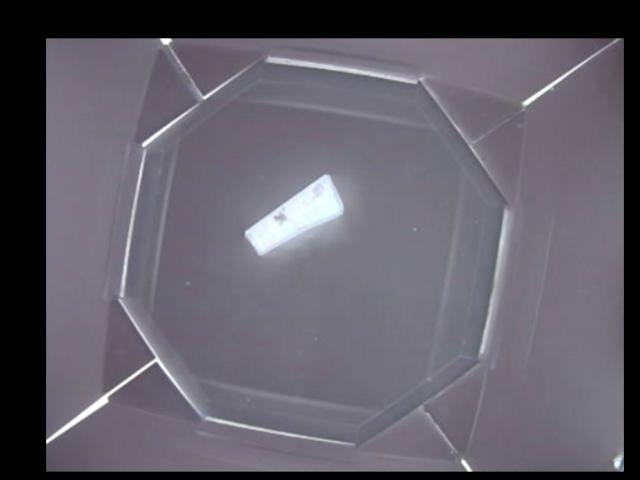China: (242, 172, 342, 255)
